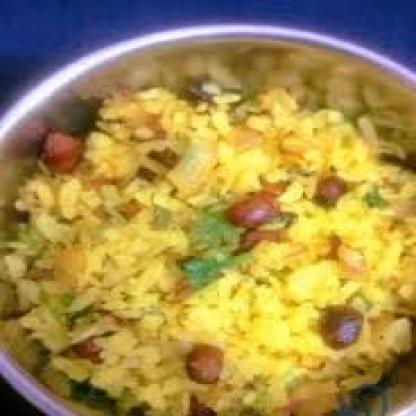poha: (0, 79, 416, 416)
